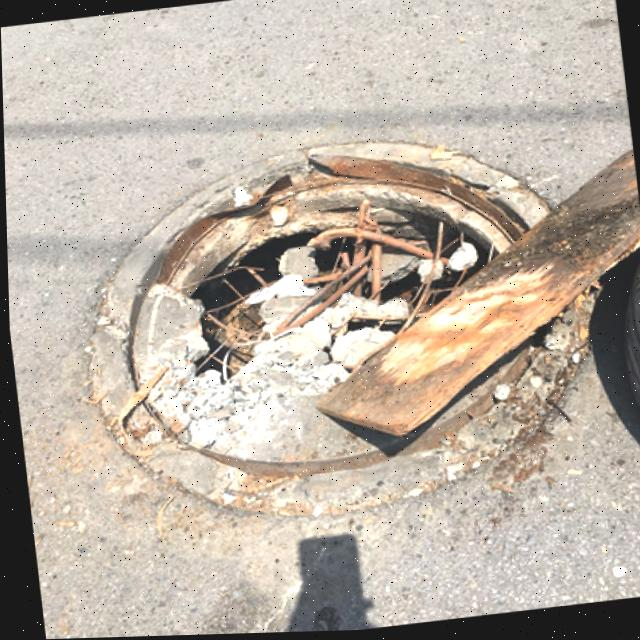manhole: (55, 120, 606, 543)
